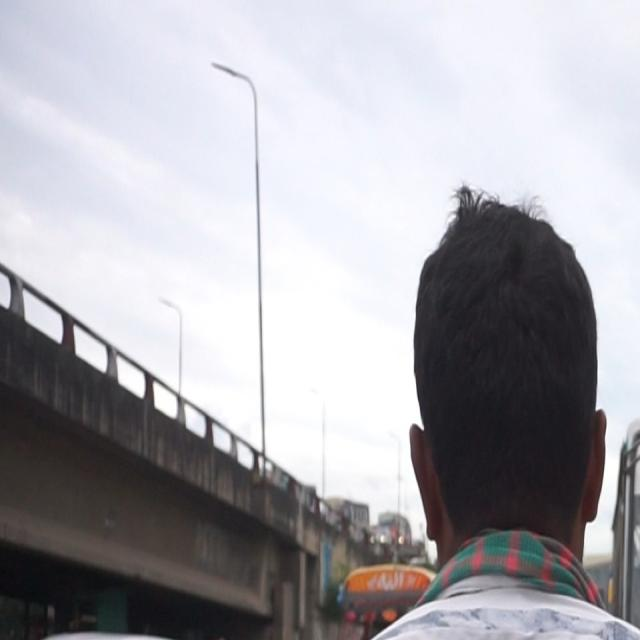bus: (591, 345, 640, 640)
car: (0, 603, 225, 640)
